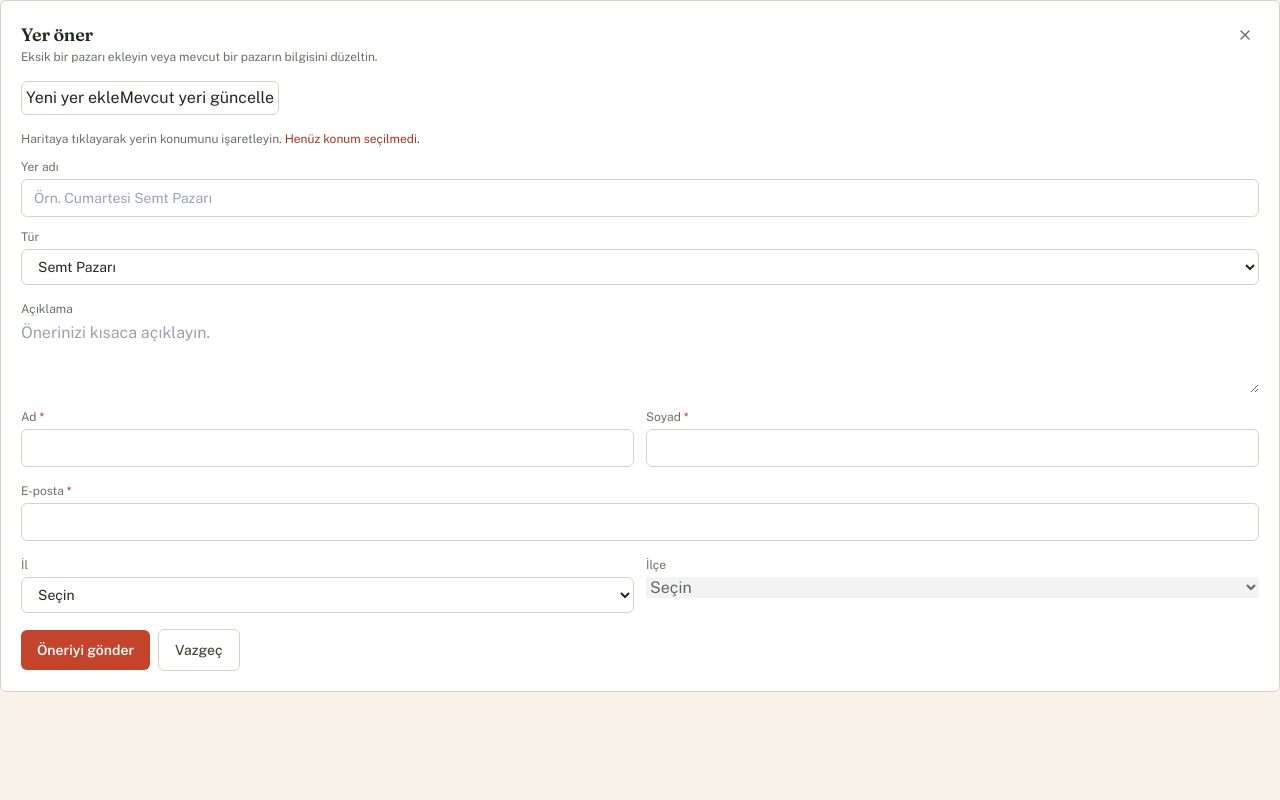
Test case: SuggestionForm › blocks submit and shows an error when required fields are missing
Click the button "Öneriyi gönder" at coordinates (86, 650), box [21, 630, 150, 670]
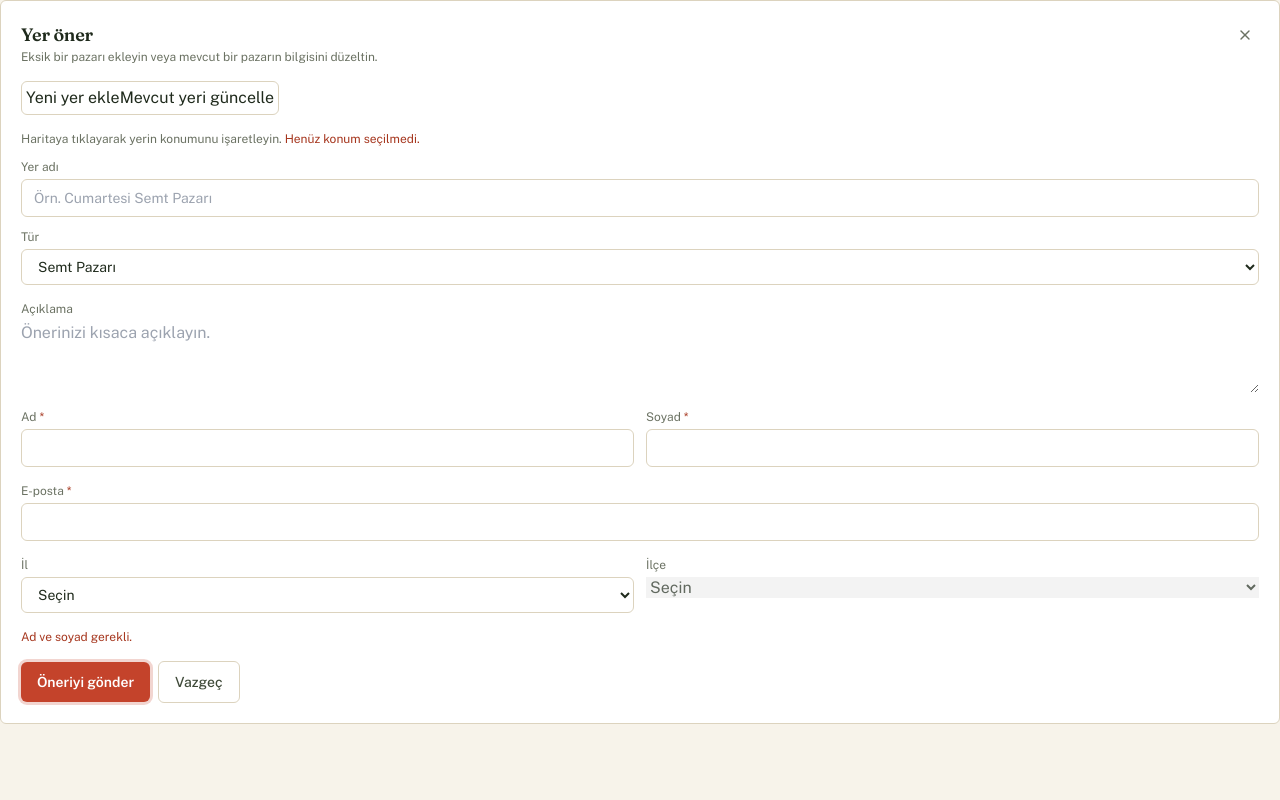
Check: the text "Ad ve soyad gerekli." is shown, box [21, 630, 132, 644]
